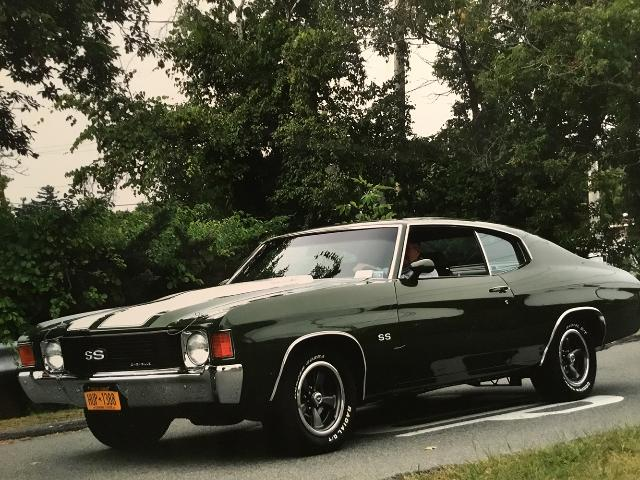chevelle-1972: (19, 218, 639, 453)
